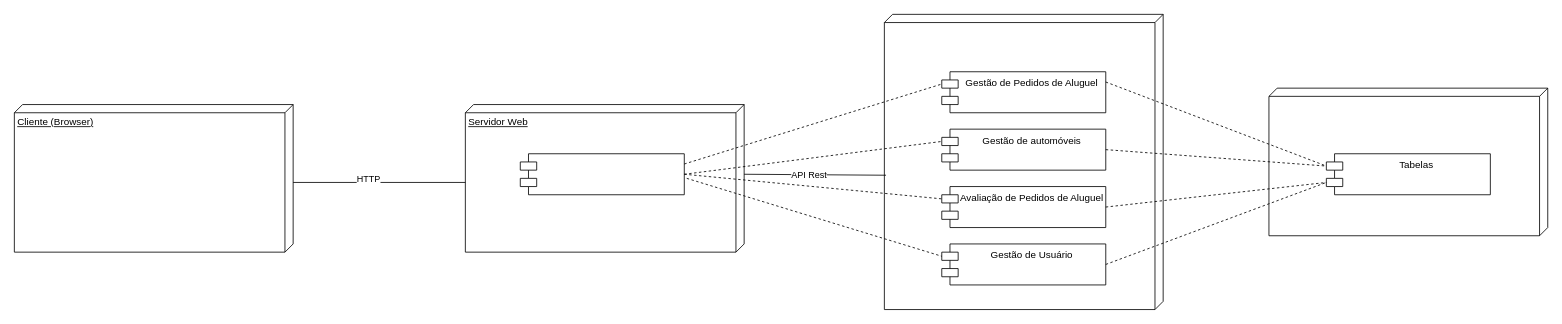
Image size: 1562x324. Some labels were removed from this diagram. Each missing label, with the box of its shape:
Interface Web: (519, 153, 684, 195)
Servidor da Aplicação: (884, 14, 1163, 310)
Servidor de Banco de Dados: (1268, 87, 1548, 236)
